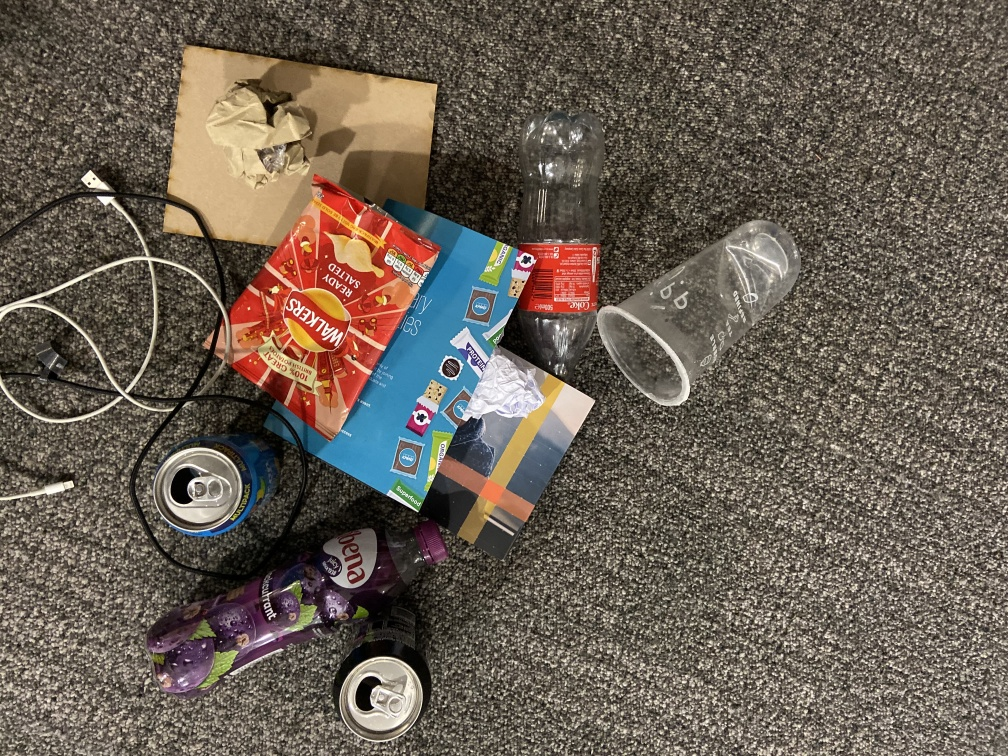bottle_purple: (144, 521, 456, 693)
bottle_red: (506, 108, 607, 382)
can_black: (332, 603, 440, 745)
can_blue: (151, 435, 288, 539)
paper_brown: (206, 75, 317, 190)
paper_white: (468, 348, 546, 430)
